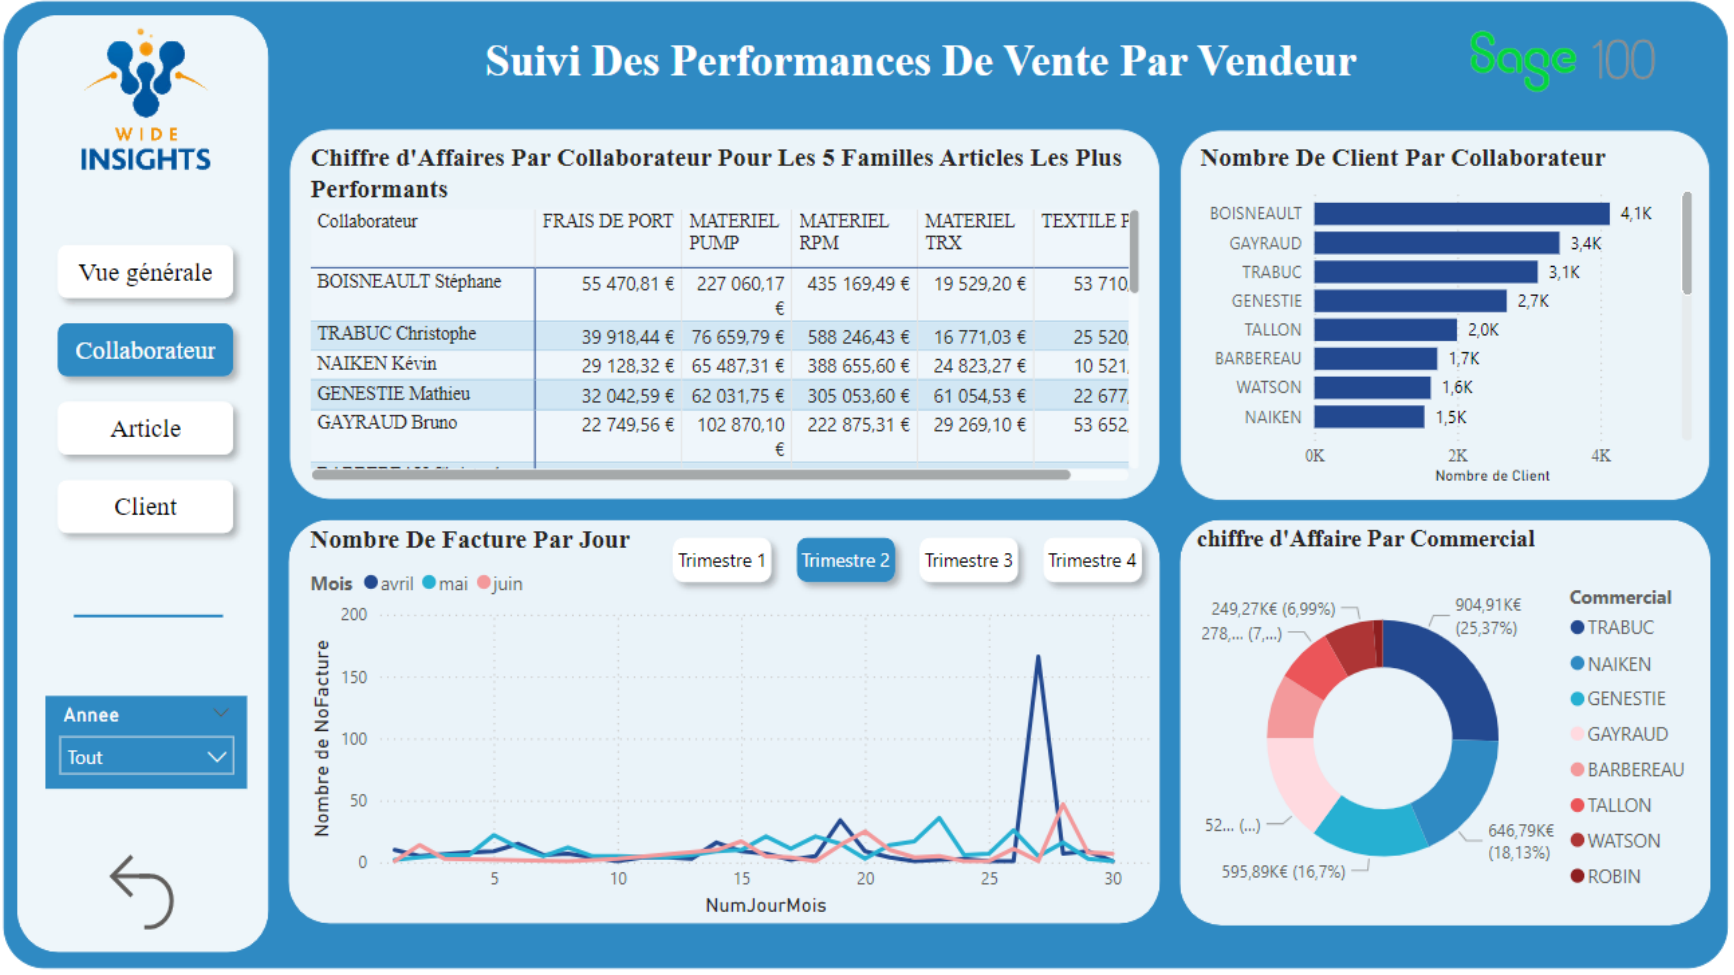

Layout of this report page (visuals, bound fields, positions):
{"tool":"powerbi","page":{"name":"Collaborateur","canvas":[1280,720],"ordinal":1},"visuals":[{"type":"textbox","box":[8.8,8.8,1258.8,691.2],"z":0},{"type":"shape","box":[18.8,17.7,183.8,670],"z":1000},{"type":"image","box":[31.8,20.7,161.2,115],"z":2000},{"type":"slicer","fields":{"Values":["Dim_Date.Annee"]},"box":[39.3,504.5,147.5,66.2],"z":3000},{"type":"actionButton","box":[75.5,612,78.8,67.5],"z":4000},{"type":"image","box":[1017.5,0,262.5,103.8],"z":5000},{"type":"shape","box":[216.7,379.5,636.2,288.8],"z":7000},{"type":"textbox","box":[237.5,27.5,881.2,72.5],"z":8000},{"type":"shape","box":[867.5,378.8,387.5,290],"z":10000},{"type":"donutChart","title":"chiffre d''Affaire Par Commercial ","fields":{"Category":["Dim_Collaborateur.NomCollaborateur"],"Y":["Sum(Fact_Vente.MontantHT)"],"Series":["Dim_Collaborateur.FonctionCollaborateur"]},"box":[873.8,382.5,375,286.2],"z":11000},{"type":"lineChart","title":"Nombre De Facture Par Jour","fields":{"Category":["Dim_Date.NumJourMois"],"Series":["Dim_Date.Date.Variation.Hiérarchie de dates.Mois"],"Y":["Count(Fact_Vente.NoFacture)"]},"box":[227.5,382.5,623.8,285],"z":12000},{"type":"pageNavigator","box":[39.3,173.6,146.6,224.2],"z":15000},{"type":"shape","box":[59.4,431.7,109,32.6],"z":16000},{"type":"pivotTable","title":" Chiffre d''Affaires Par Collaborateur Pour Les 5 Familles Articles Les Plus Performants","fields":{"Rows":["Dim_Collaborateur.NomCompletCollaborateur"],"Values":["Sum(Fact_Vente.MontantHT)"],"Columns":["DIM_FamilleArticle.DescriptionFamilleArticle"]},"box":[217.1,100,634.3,264.3],"z":17000},{"type":"bookmarkNavigator","box":[487.5,382.5,363.8,50],"z":18000},{"type":"barChart","title":"Nombre De Client Par Collaborateur","fields":{"Category":["Dim_Collaborateur.NomCollaborateur"],"Y":["CountNonNull(Fact_Vente.IdClient)"]},"box":[867.1,100,387.1,265.7],"z":19000}]}

Visuals, with their boxes in screenshot pixels (x1, y1, x2, y2), scaled from the page's 1280x720 canvas onto the 1734x975 screenshot:
textbox: (12,12,1717,948)
shape: (25,24,274,931)
image: (43,28,261,184)
slicer - Dim_Date.Annee: (53,683,253,773)
actionButton: (102,829,209,920)
image: (1378,0,1733,141)
shape: (294,514,1155,905)
textbox: (322,37,1515,135)
shape: (1175,513,1700,906)
"chiffre d''Affaire Par Commercial " donutChart: (1184,518,1692,906)
"Nombre De Facture Par Jour" lineChart: (308,518,1153,904)
pageNavigator: (53,235,252,539)
shape: (80,585,228,629)
" Chiffre d''Affaires Par Collaborateur Pour Les 5 Familles Articles Les Plus Performants" pivotTable: (294,135,1153,493)
bookmarkNavigator: (660,518,1153,586)
"Nombre De Client Par Collaborateur" barChart: (1175,135,1699,495)
